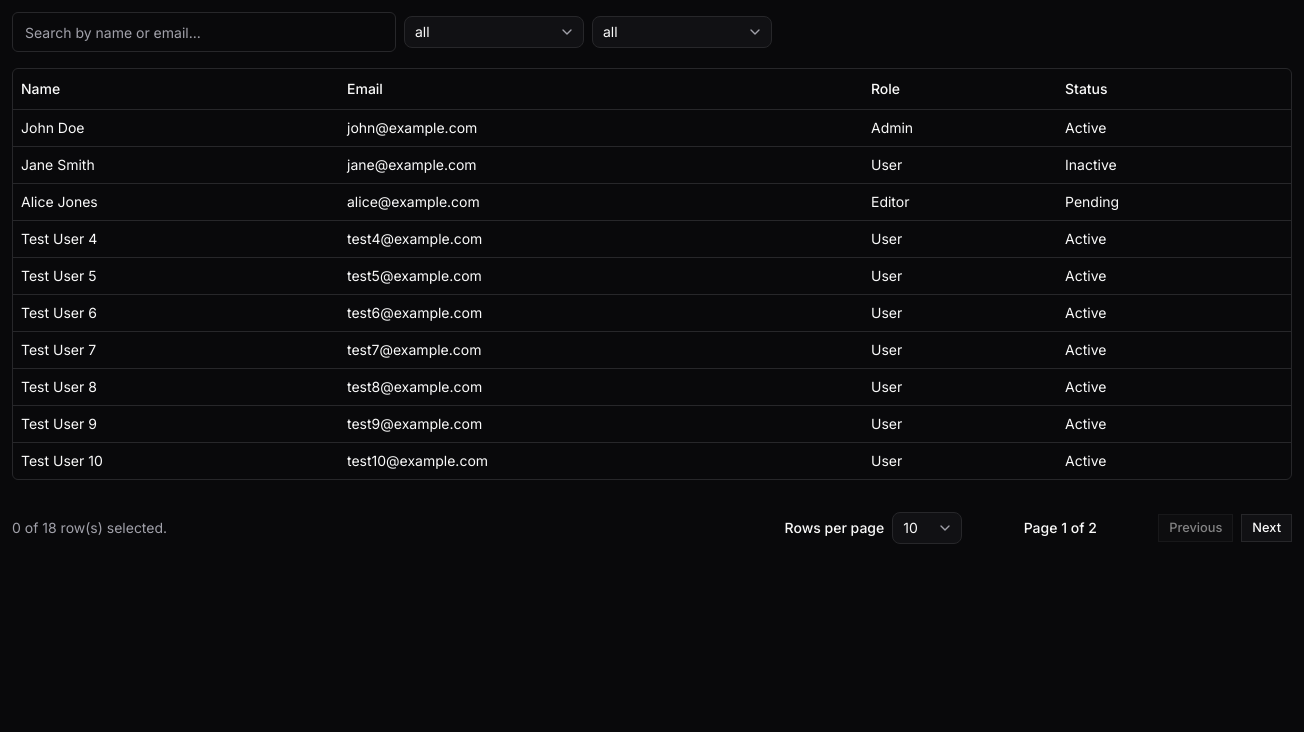
Test: Dashboard Widgets › UsersTable › handles pagination next page
The width and height of the screenshot is (1304, 732).
Expected: the text "John Doe" is shown, [13,109,339,146]
What coordinates should you click on to do the following:
click the button "Next"
I would click on:
 (1267, 528)
Its box is [1241,514,1292,542].
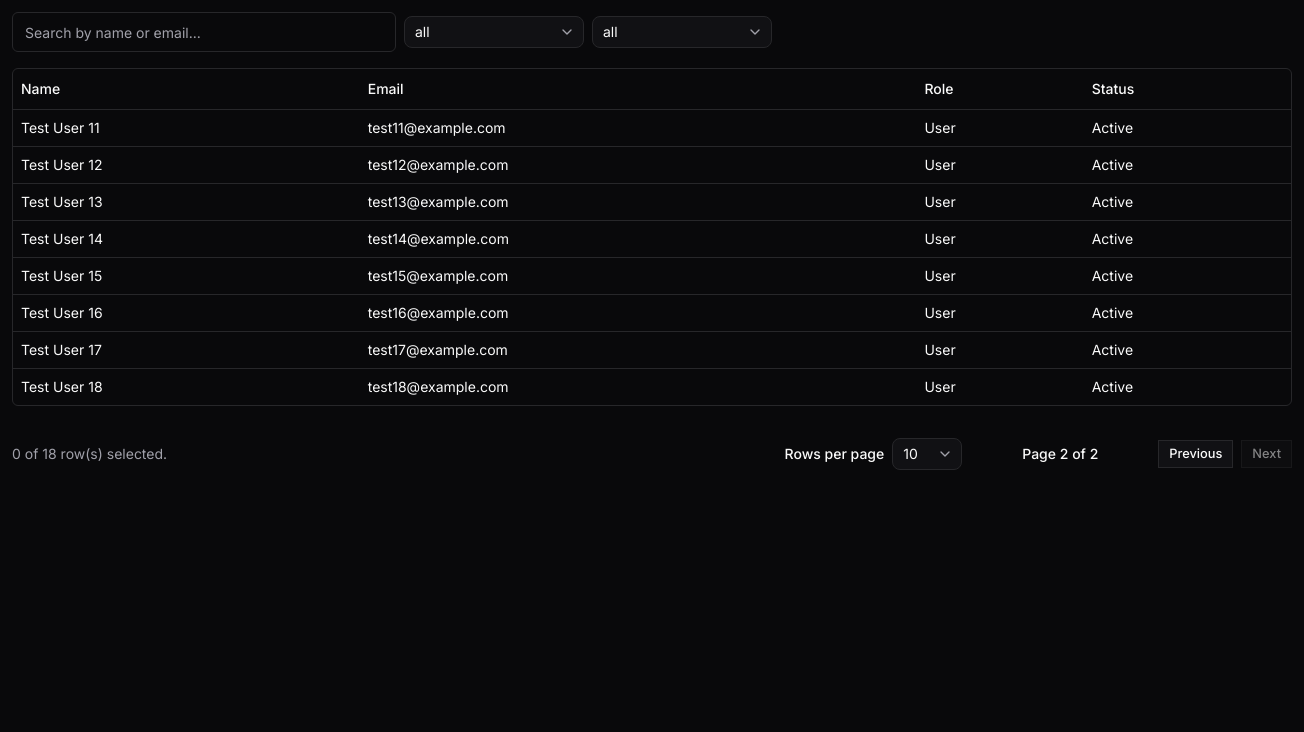
Now the text "Test User 18" is shown once, box [13,368,360,404]
